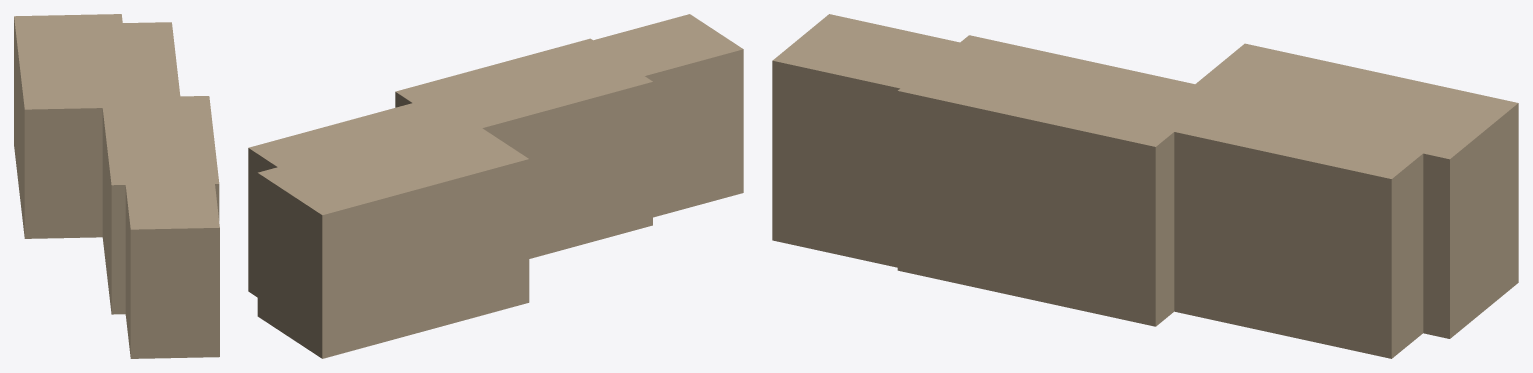
The model's file is bld_101374808.dae.
3 renders of one model, left to right at view 1: azimuth 30°, elevation 25°; view 2: azimuth 150°, elevation 25°; view 3: azimuth 270°, elevation 25°, orthographic. The views are drawn at different scales.
Visible parts, largest first — view 1: bld_101374808; view 2: bld_101374808; view 3: bld_101374808.
Part boxes in pixels (x1,y1,x2,y2): bld_101374808: (14,14,219,358); bld_101374808: (248,14,743,358); bld_101374808: (772,14,1518,358).
Bounding box in the file's own units: 15.76 × 30.08 × 8.
